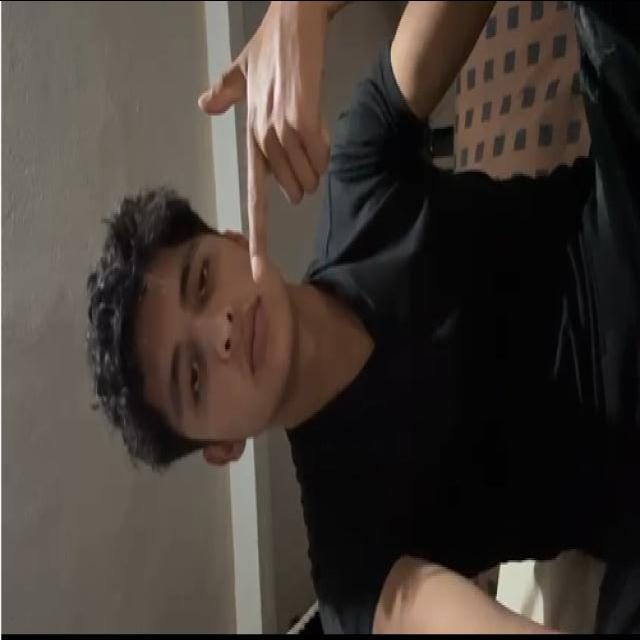G: (182, 0, 338, 285)
